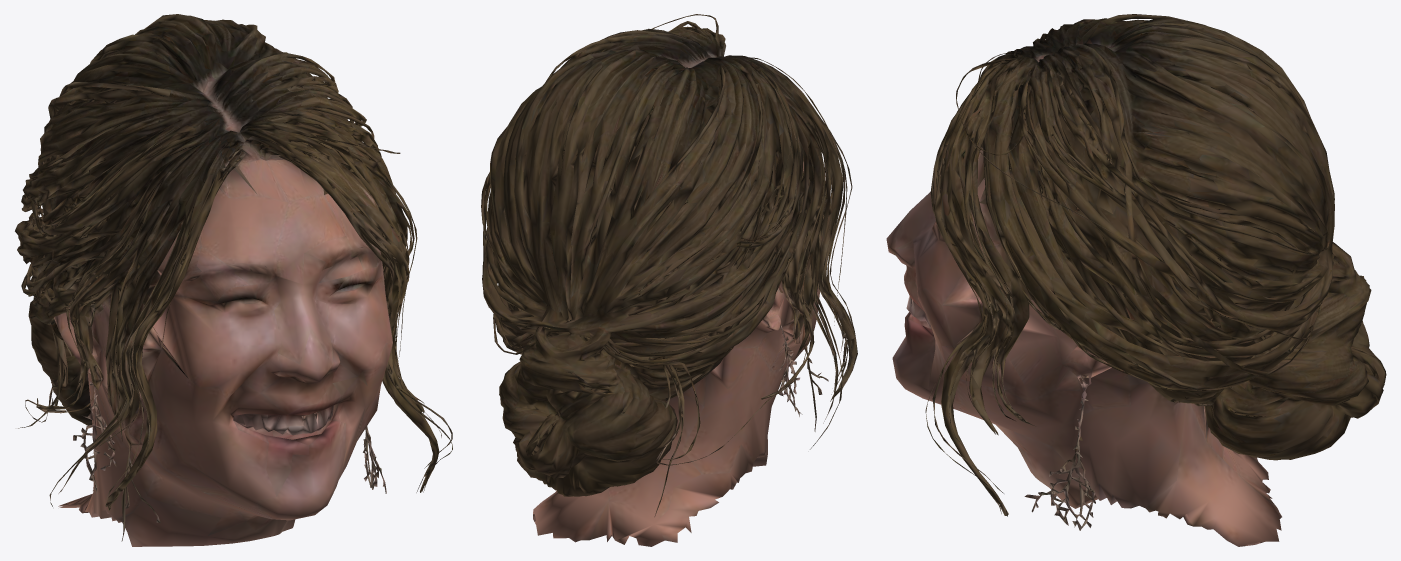
File: head_jackie.glb
3 renders of one model, left to right at view 1: azimuth 30°, elevation 25°; view 2: azimuth 150°, elevation 25°; view 3: azimuth 270°, elevation 25°, orthographic. The views are drawn at different scales.
Visible parts, largest first — view 1: Mesh_0; view 2: Mesh_0; view 3: Mesh_0.
Boxes of the visible parts, bbox=[...] form: Mesh_0: bbox=[15, 14, 452, 546]; Mesh_0: bbox=[481, 14, 857, 546]; Mesh_0: bbox=[886, 14, 1386, 546].
Size of the model in its own units: 1.1 by 1.57 by 1.46.
1 material, 1 textured.
